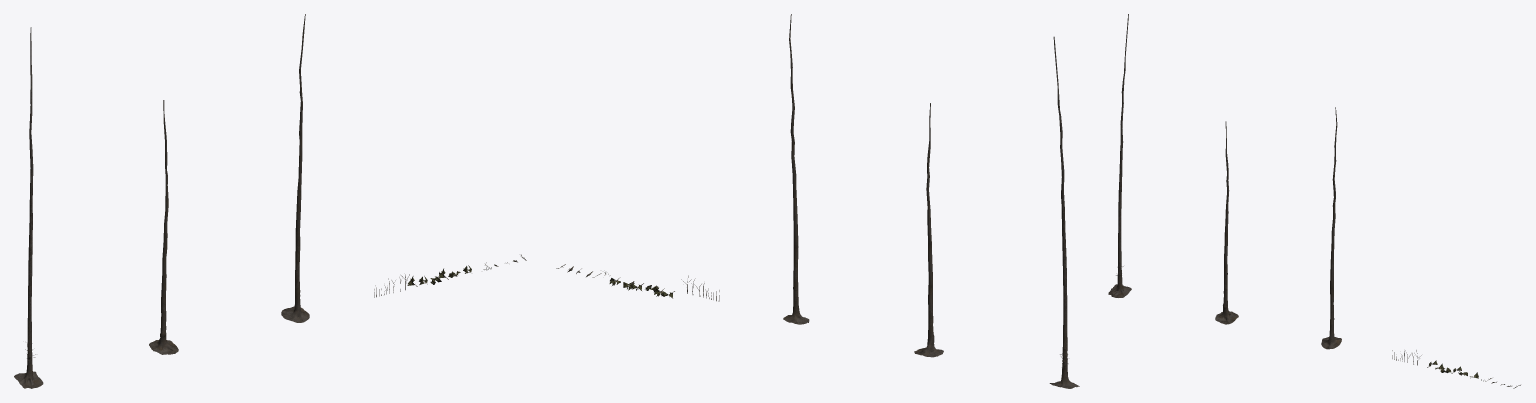
The model's file is field_pine_a_lod2.glb.
3 views of the same model, side by side, from view 1: azimuth 30°, elevation 25°; view 2: azimuth 150°, elevation 25°; view 3: azimuth 330°, elevation 25° (orthographic). The views are drawn at different scales.
Parts seen in each view (by area): view 1: bark_lod2; view 2: bark_lod2; view 3: bark_lod2.
Boxes of the visible parts, <box> form: bark_lod2: <box>14,14,409,388</box>; bark_lod2: <box>681,14,1079,388</box>; bark_lod2: <box>1108,14,1421,365</box>.
Size of the model in its own units: 26.69 by 17.68 by 1.41.
2 materials, 2 textured.
